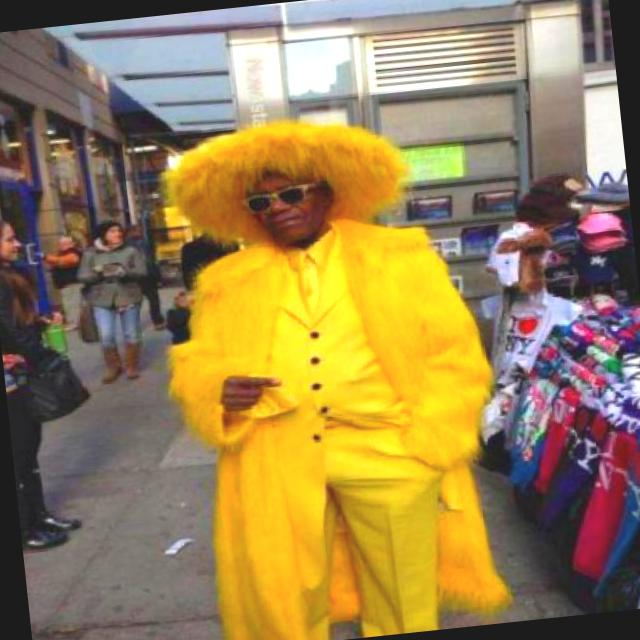Person: (99, 77, 548, 640)
